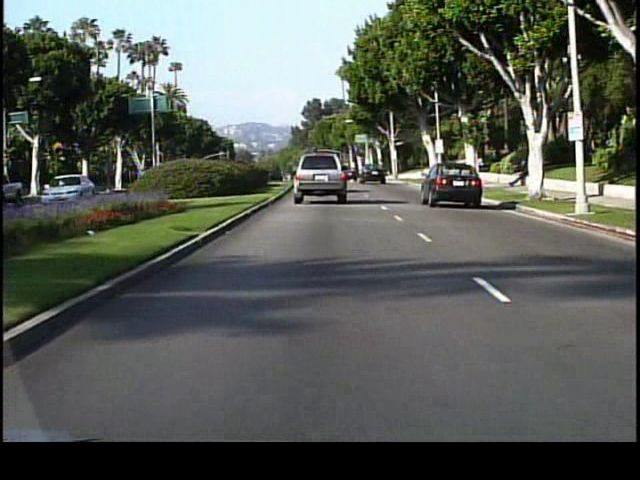person: (507, 156, 528, 191)
